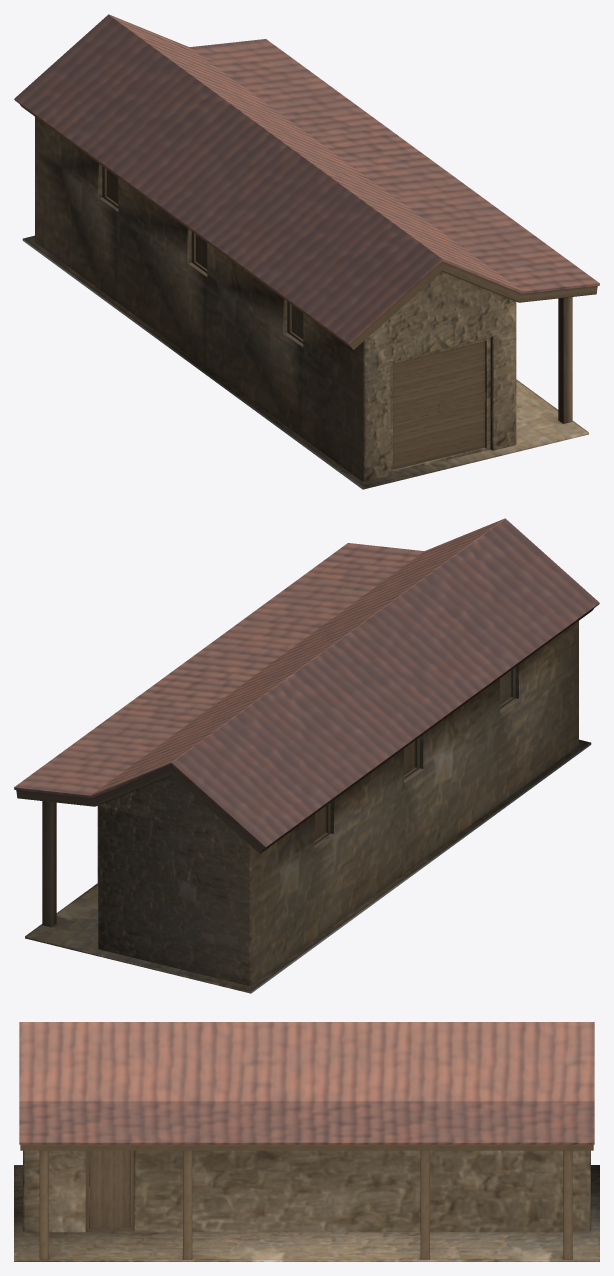
File: hut.glb
3 renders of one model, top to bottom at view 1: azimuth 30°, elevation 25°; view 2: azimuth 150°, elevation 25°; view 3: azimuth 270°, elevation 25°, orthographic. The views are drawn at different scales.
Parts seen in each view (by area): view 1: hut; view 2: hut; view 3: hut.
Part boxes in pixels (x1,y1,x2,y2): hut: [14, 14, 599, 489]; hut: [14, 518, 599, 993]; hut: [14, 1022, 599, 1261].
Size of what is drawn, in the model's own units: 6.14 by 4.86 by 14.36.
1 material, 1 textured.
